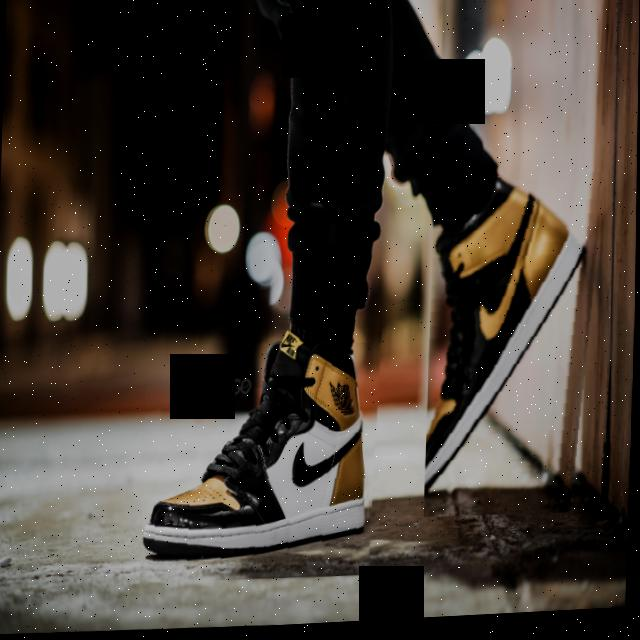shoe: (141, 312, 383, 588), (425, 167, 607, 524)
